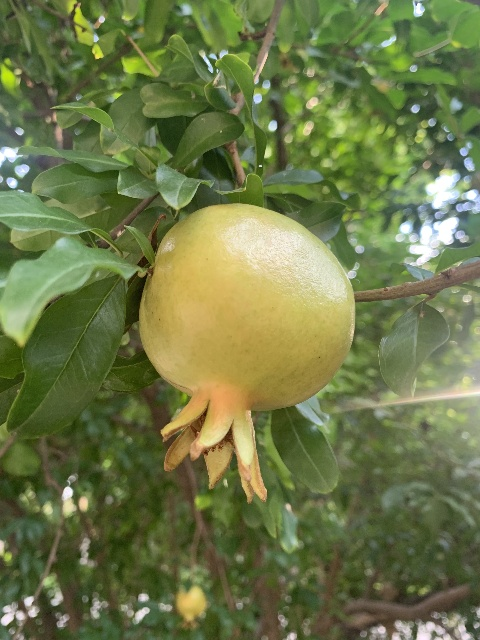mid-growth: (138, 200, 357, 503), (174, 586, 208, 629)
